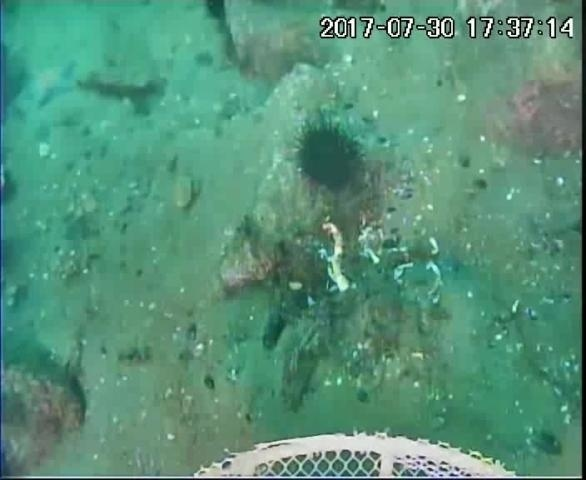echinus: (290, 118, 368, 195)
starfish: (23, 57, 82, 111)
